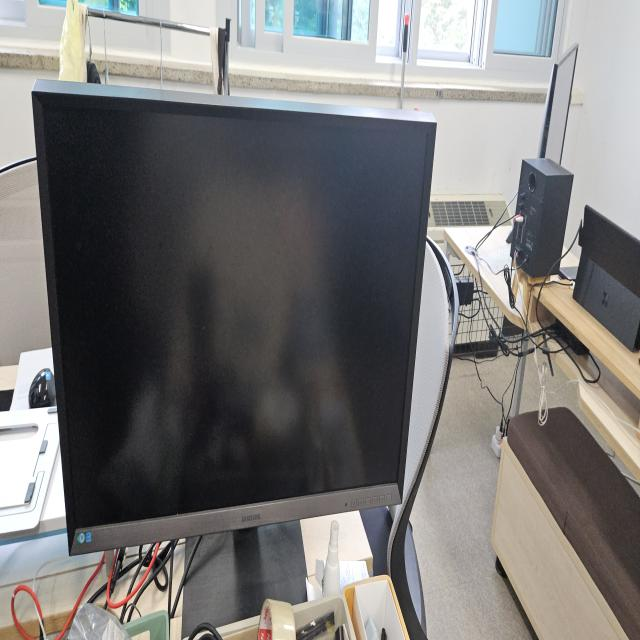Monitor: (29, 73, 439, 559)
